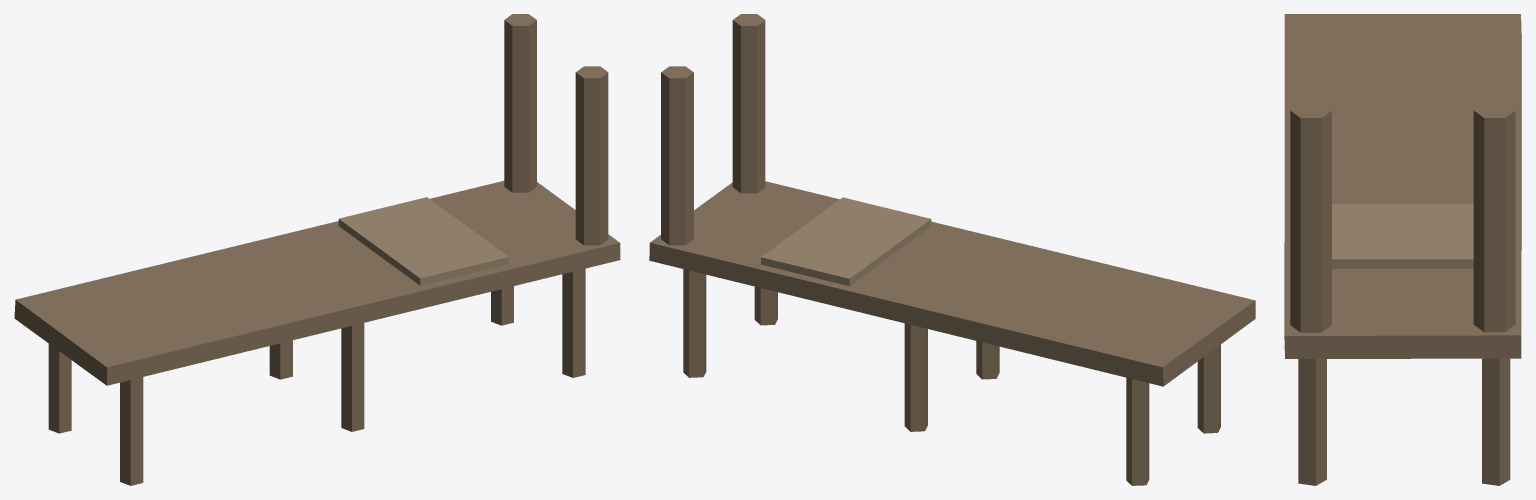
Rendered from dock.glb.
3 views of the same model, side by side, from view 1: azimuth 30°, elevation 25°; view 2: azimuth 150°, elevation 25°; view 3: azimuth 270°, elevation 25° (orthographic). The views are drawn at different scales.
Visible parts, largest first — view 1: dock; view 2: dock; view 3: dock.
Boxes of the visible parts, x1,y1,x2,y2 form: dock: [14, 14, 620, 485]; dock: [649, 14, 1255, 485]; dock: [1284, 14, 1521, 485].
Size of the model in its own units: 2.9 by 1.6 by 0.9045.
